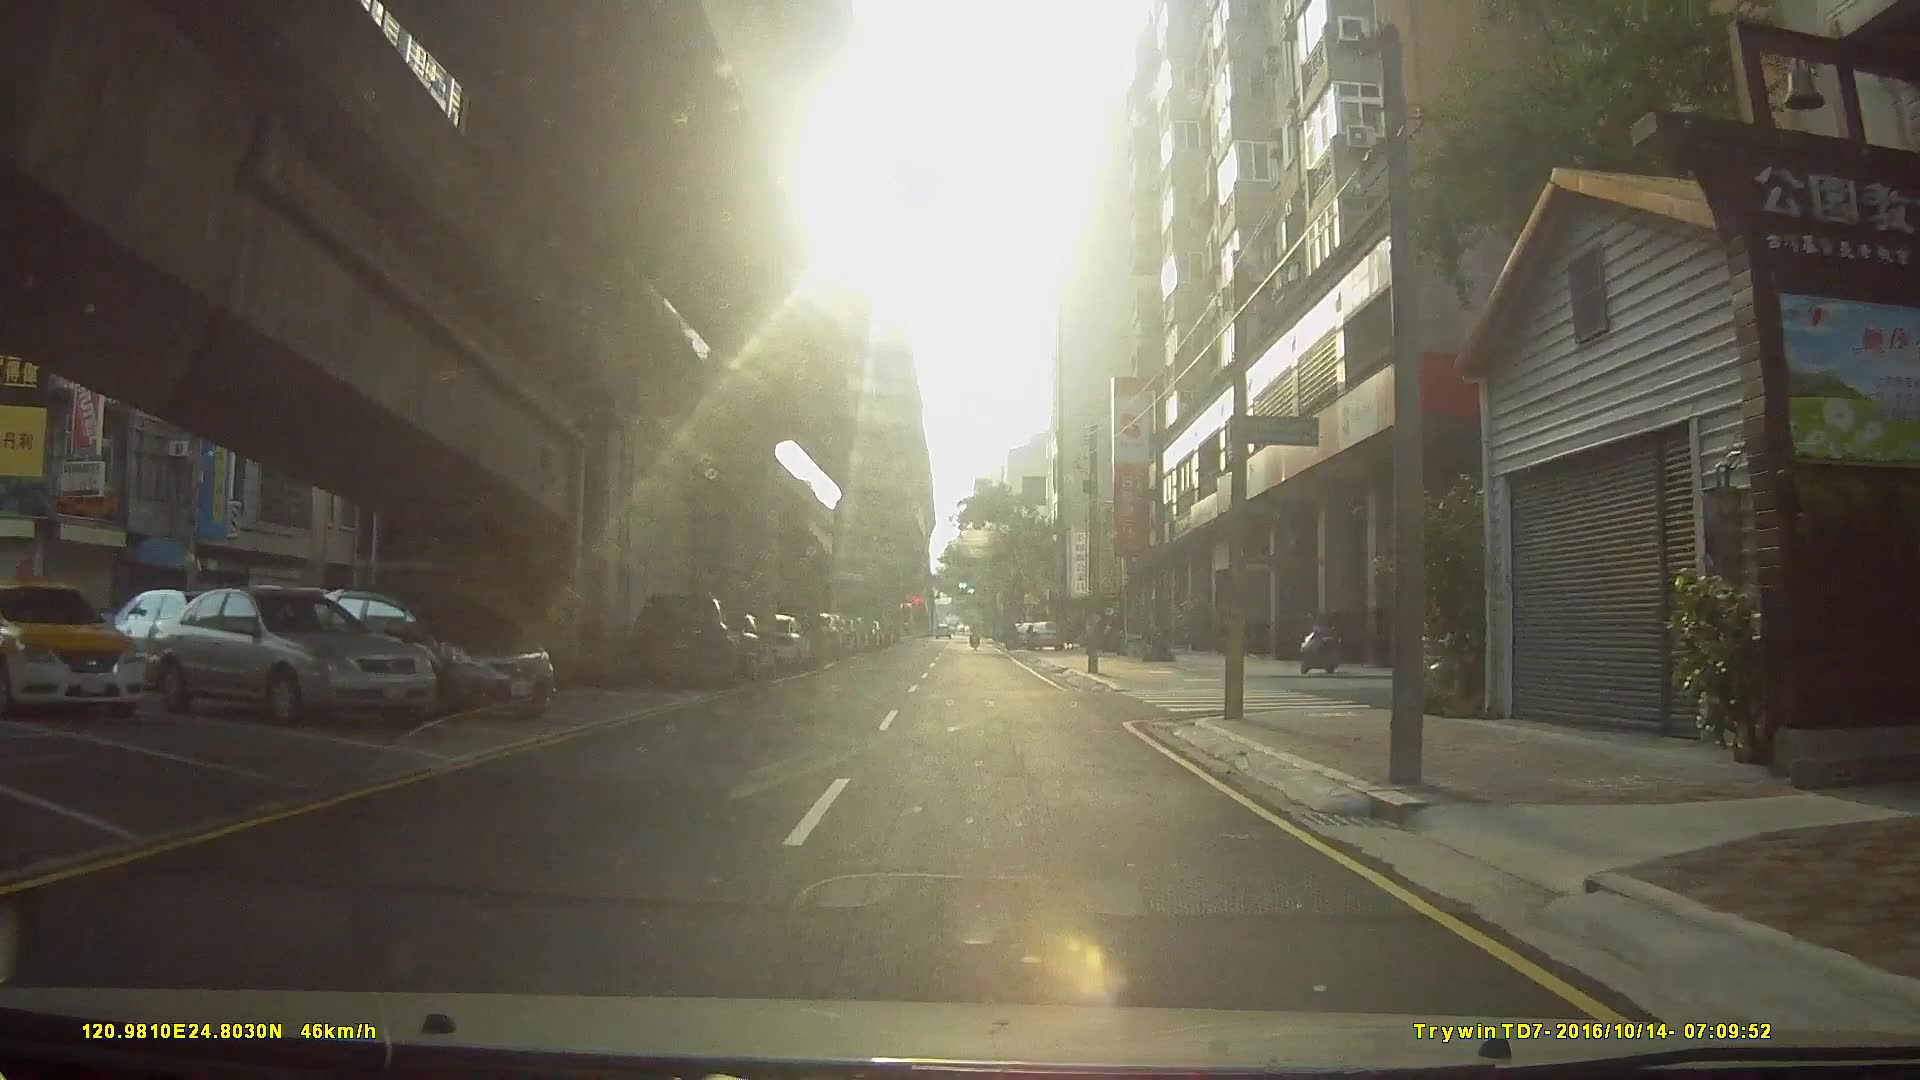vehicle: (144, 585, 436, 727), (309, 583, 560, 721), (0, 578, 141, 721), (624, 591, 744, 688)
